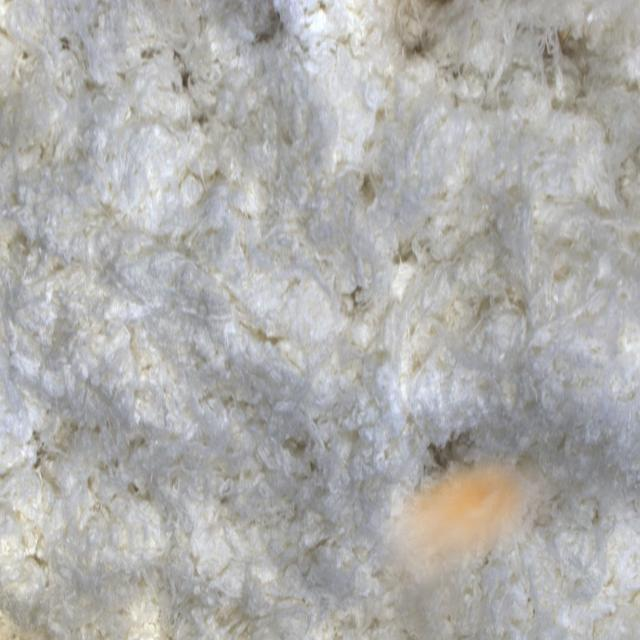dust: (368, 452, 563, 640)
